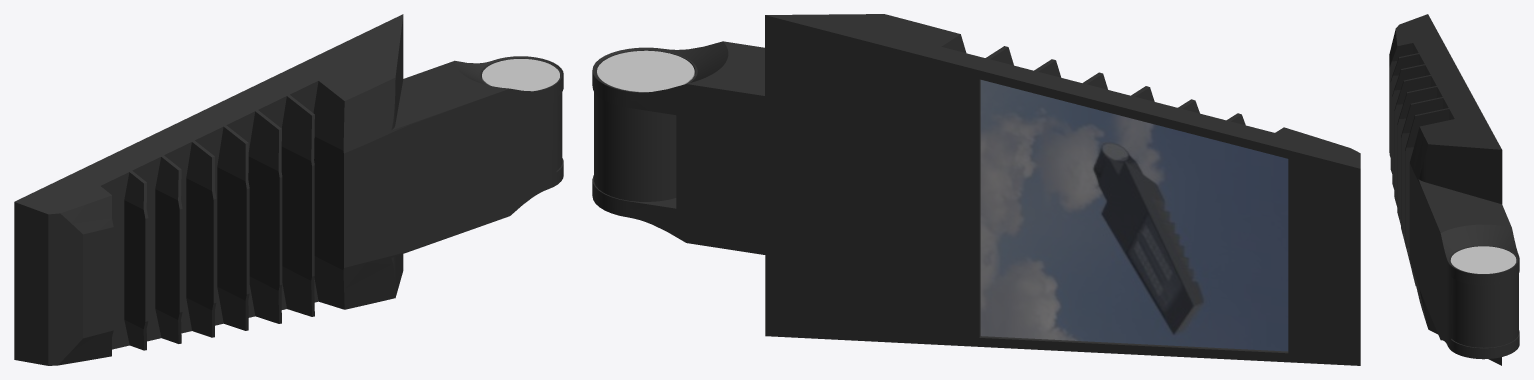
File: Lumega_IQ_70.obj
3 renders of one model, left to right at view 1: azimuth 30°, elevation 25°; view 2: azimuth 150°, elevation 25°; view 3: azimuth 270°, elevation 25°, orthographic. The views are drawn at different scales.
Parts seen in each view (by area): view 1: POLYFACE.010_POLYFACE.012, POLYFACE.011_POLYFACE.013, POLYFACE.016_POLYFACE.018, Cylinder_Cylinder.005; view 2: POLYFACE.010_POLYFACE.012, Glas_POLYFACE.011, POLYFACE.011_POLYFACE.013, Cylinder_Cylinder.005, POLYFACE.016_POLYFACE.018; view 3: POLYFACE.010_POLYFACE.012, POLYFACE.011_POLYFACE.013, Cylinder_Cylinder.005, POLYFACE.016_POLYFACE.018.
Part boxes in pixels (<box>): POLYFACE.010_POLYFACE.012: <box>14,14,489,365</box>; POLYFACE.011_POLYFACE.013: <box>434,56,563,223</box>; POLYFACE.016_POLYFACE.018: <box>482,59,559,91</box>; Cylinder_Cylinder.005: <box>556,92,562,170</box>; POLYFACE.010_POLYFACE.012: <box>718,14,1360,365</box>; Glas_POLYFACE.011: <box>980,80,1287,351</box>; POLYFACE.011_POLYFACE.013: <box>592,41,754,247</box>; Cylinder_Cylinder.005: <box>594,92,676,201</box>; POLYFACE.016_POLYFACE.018: <box>597,50,694,92</box>; POLYFACE.010_POLYFACE.012: <box>1389,14,1507,365</box>; POLYFACE.011_POLYFACE.013: <box>1436,218,1519,359</box>; Cylinder_Cylinder.005: <box>1451,273,1518,347</box>; POLYFACE.016_POLYFACE.018: <box>1450,246,1516,273</box>.
Size of the model in its own units: 0.7577 by 0.323 by 0.1769.
